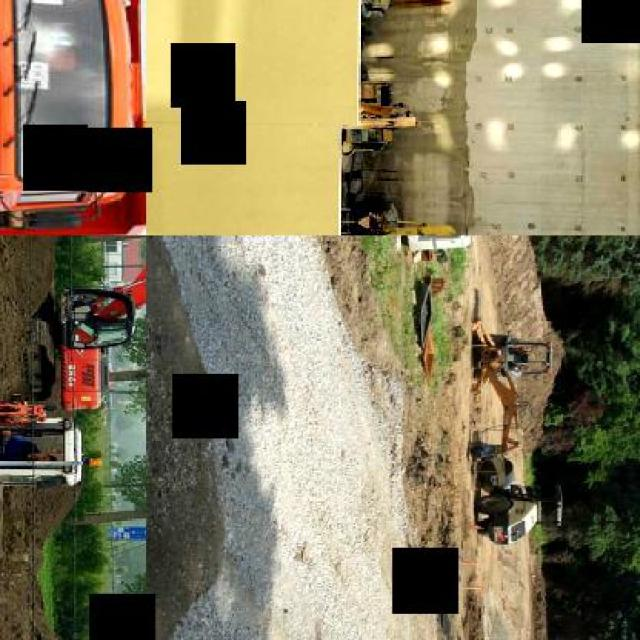dump_truck: (0, 0, 145, 234)
excavator: (22, 235, 144, 416), (464, 328, 554, 461), (0, 388, 100, 492), (340, 80, 423, 154), (325, 192, 457, 234), (355, 0, 394, 26)
